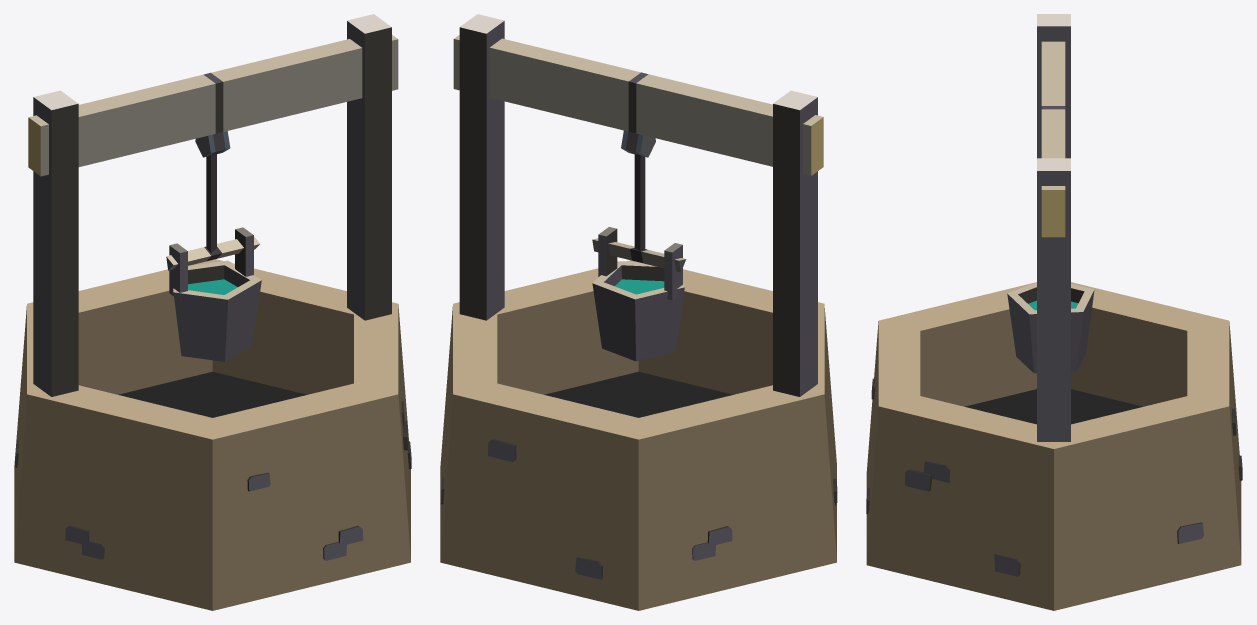
File: TB_D_Bd_Well_B.FBX
3 views of the same model, side by side, from view 1: azimuth 30°, elevation 25°; view 2: azimuth 150°, elevation 25°; view 3: azimuth 270°, elevation 25° (orthographic). The views are drawn at different scales.
Visible parts, largest first — view 1: TB_D_Bd_Well_B; view 2: TB_D_Bd_Well_B; view 3: TB_D_Bd_Well_B.
Part boxes in pixels (x1,y1,x2,y2): TB_D_Bd_Well_B: [14, 14, 411, 610]; TB_D_Bd_Well_B: [440, 14, 837, 610]; TB_D_Bd_Well_B: [866, 14, 1242, 610].
Size of the model in its own units: 2.58 by 2.81 by 2.24.
